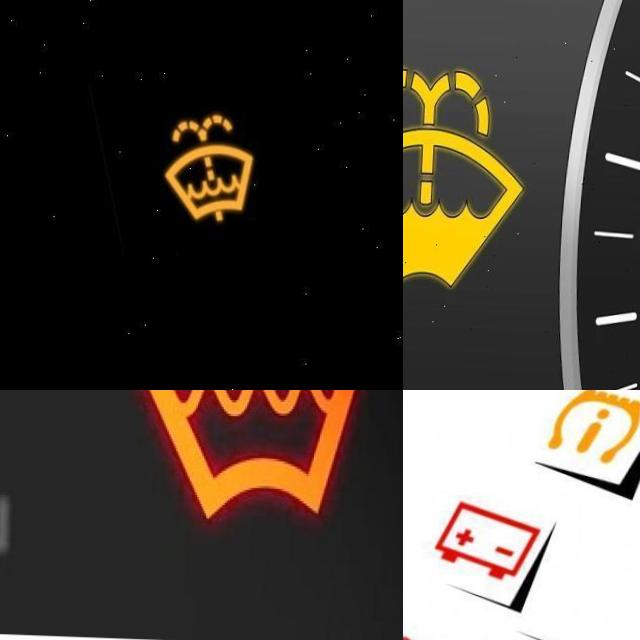Washer Fluid: (110, 390, 382, 520), (403, 61, 531, 291), (164, 113, 257, 222)
